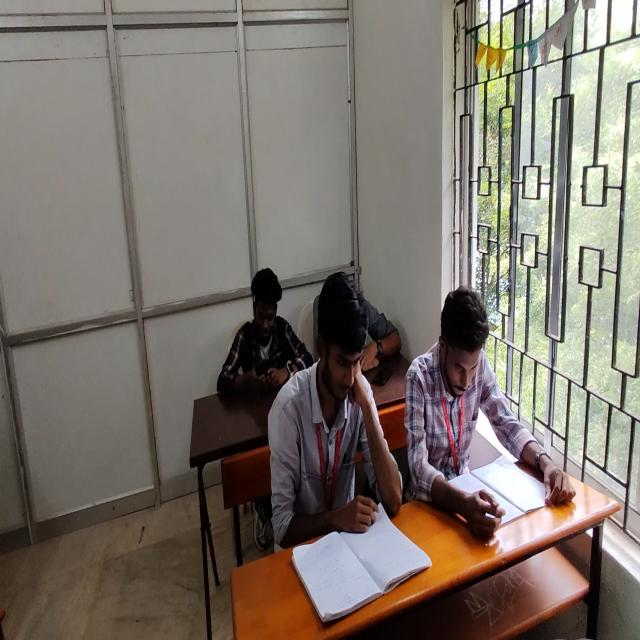reading: (265, 270, 400, 552), (424, 286, 578, 528)
sleeping: (314, 282, 401, 373)
using_mobile: (217, 266, 314, 396)
